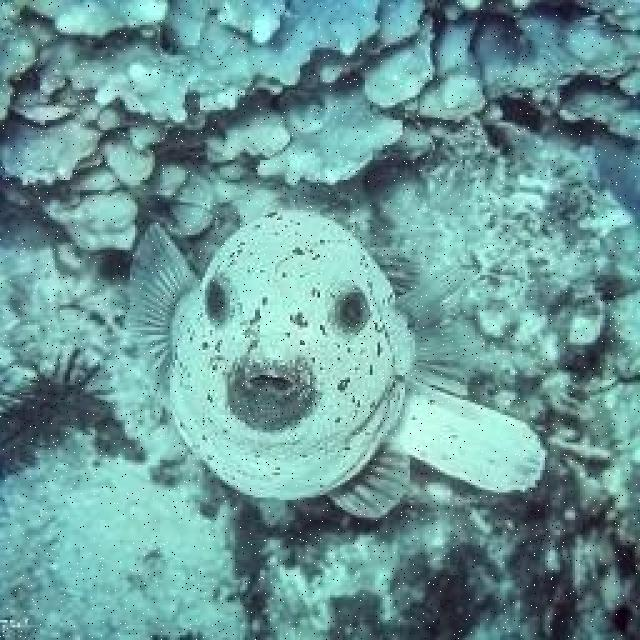fish: (126, 211, 548, 520)
